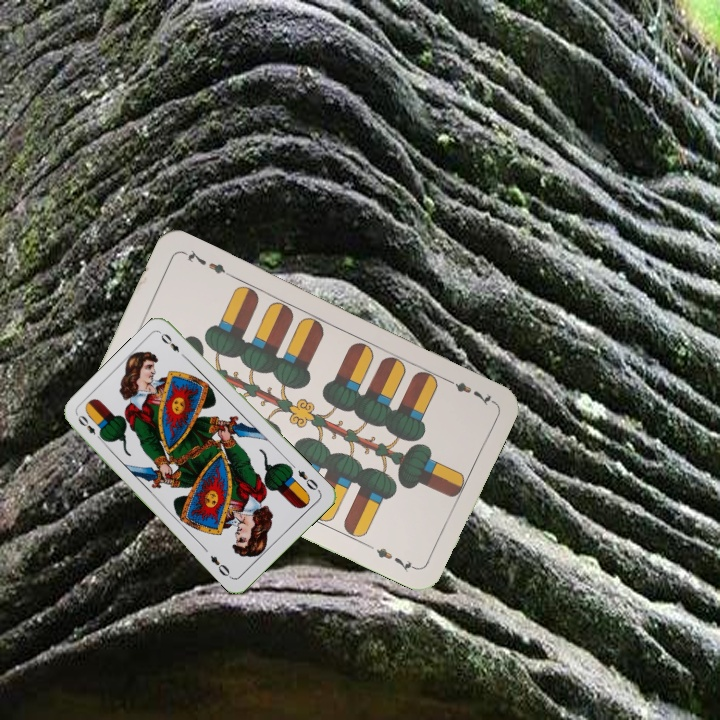E7: (440, 373, 496, 409)
EO: (74, 411, 106, 444), (294, 466, 323, 495)
